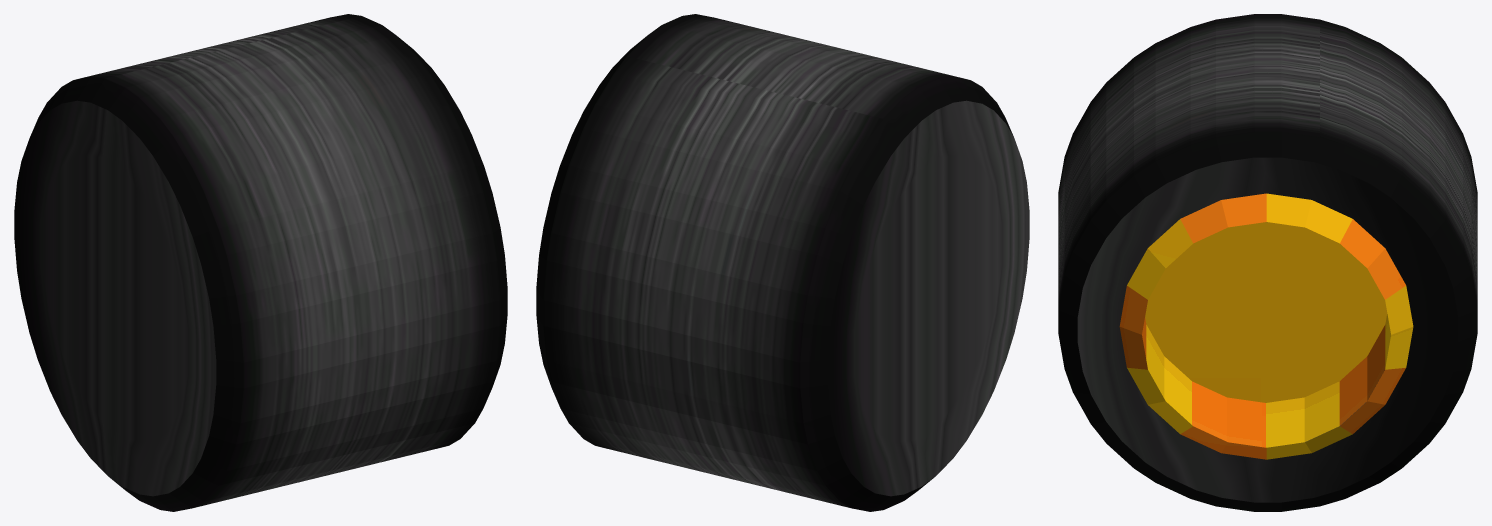
Rendered from LlantaNormal.obj.
3 views of the same model, side by side, from view 1: azimuth 30°, elevation 25°; view 2: azimuth 150°, elevation 25°; view 3: azimuth 270°, elevation 25° (orthographic). The views are drawn at different scales.
Parts seen in each view (by area): view 1: LlantaNormal1:polySurface11; view 2: LlantaNormal1:polySurface11; view 3: LlantaNormal1:polySurface11.
Part boxes in pixels (x1=…): LlantaNormal1:polySurface11: x1=14, y1=14, x2=507, y2=511; LlantaNormal1:polySurface11: x1=536, y1=14, x2=1029, y2=511; LlantaNormal1:polySurface11: x1=1058, y1=14, x2=1477, y2=511.
Size of the model in its own units: 0.1288 by 0.1602 by 0.1602.
